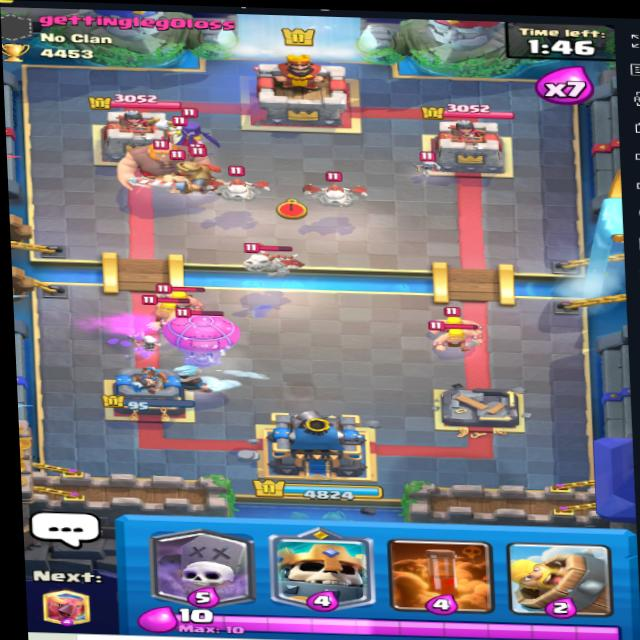Balloon: (165, 304, 242, 369)
Barbarian: (428, 318, 479, 352), (147, 293, 206, 322), (157, 283, 208, 309), (428, 309, 480, 334)
Giant: (114, 138, 211, 195)
Prince: (126, 155, 228, 199)
Skeleton: (414, 151, 440, 173)
Skeletondragon: (209, 167, 275, 207), (300, 171, 364, 211), (238, 243, 305, 279)
witch: (155, 110, 214, 155)
